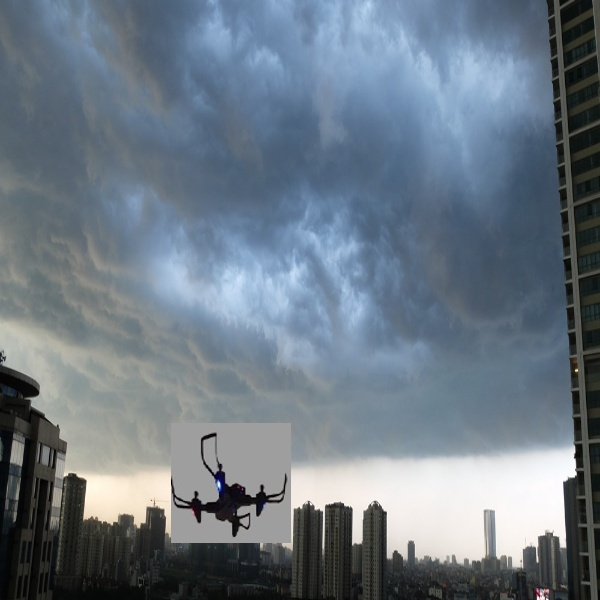drone: (173, 430, 289, 537)
